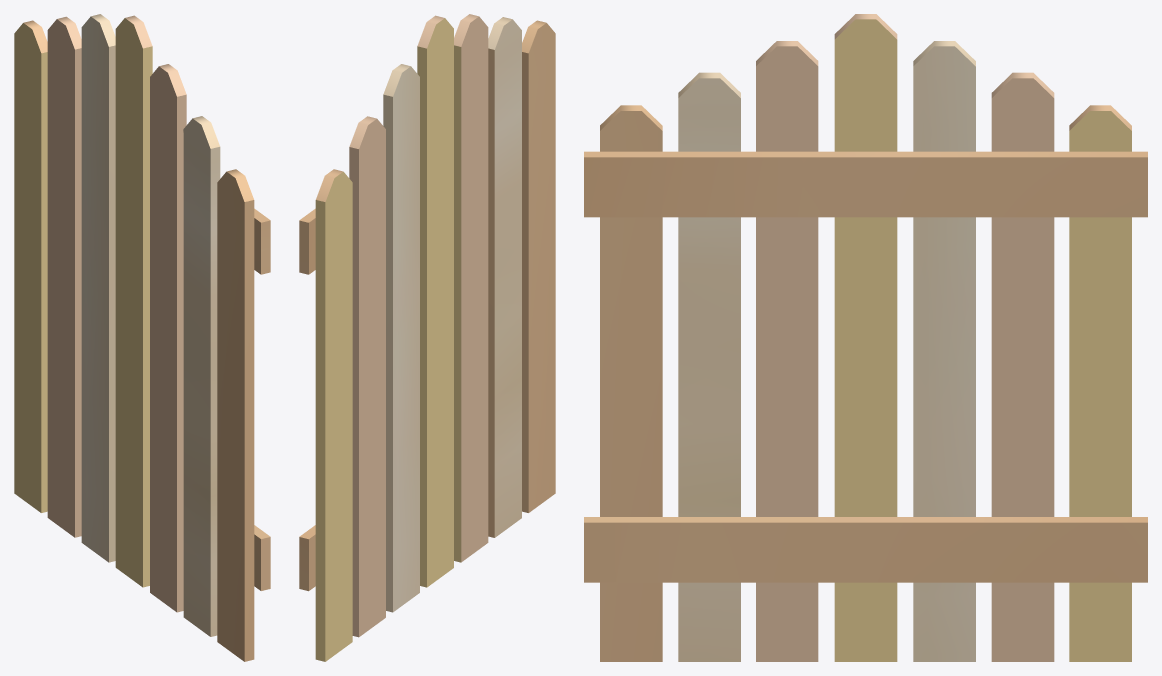
File: Fence_Modular.fbx
3 renders of one model, left to right at view 1: azimuth 30°, elevation 25°; view 2: azimuth 150°, elevation 25°; view 3: azimuth 270°, elevation 25°, orthographic. The views are drawn at different scales.
Parts seen in each view (by area): view 1: Fence_Modular; view 2: Fence_Modular; view 3: Fence_Modular.
Boxes of the visible parts, <box> form: Fence_Modular: <box>14,14,270,661</box>; Fence_Modular: <box>299,14,555,661</box>; Fence_Modular: <box>584,14,1147,661</box>.
Size of the model in its own units: 7 by 192 by 153.
